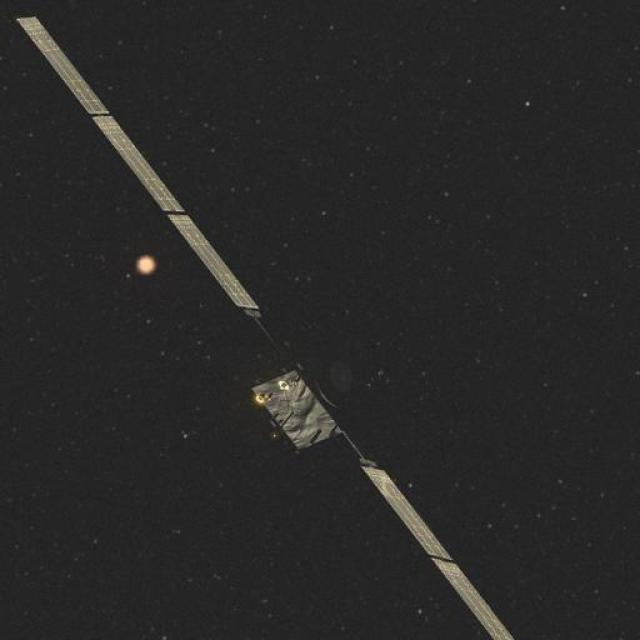smart_1: (112, 181, 514, 608)
